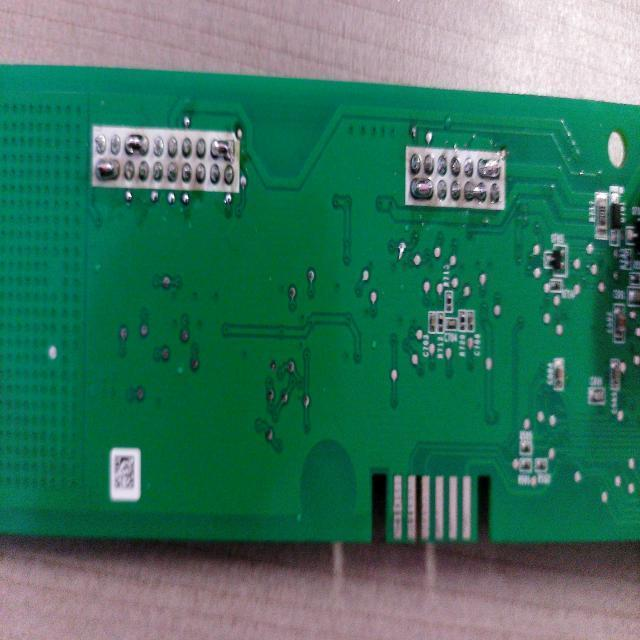Soldering shorted: (474, 152, 511, 183), (93, 155, 123, 188), (461, 178, 489, 212), (404, 178, 436, 206), (124, 131, 151, 156), (208, 138, 236, 161)
